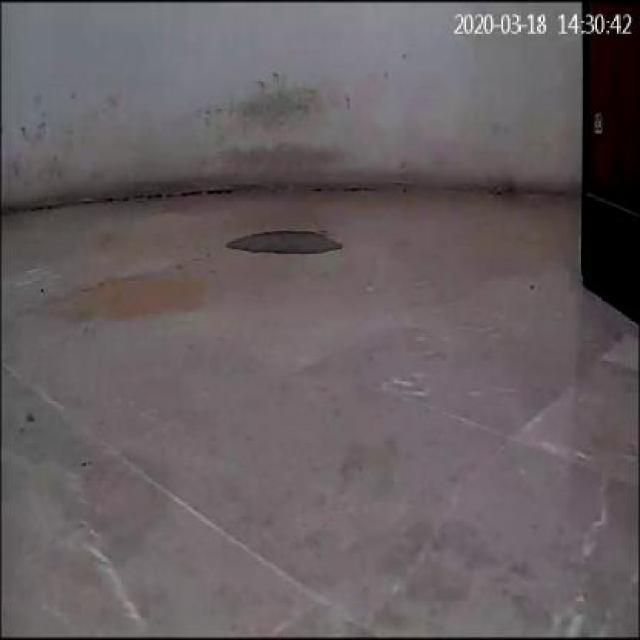spill: (224, 227, 344, 256)
